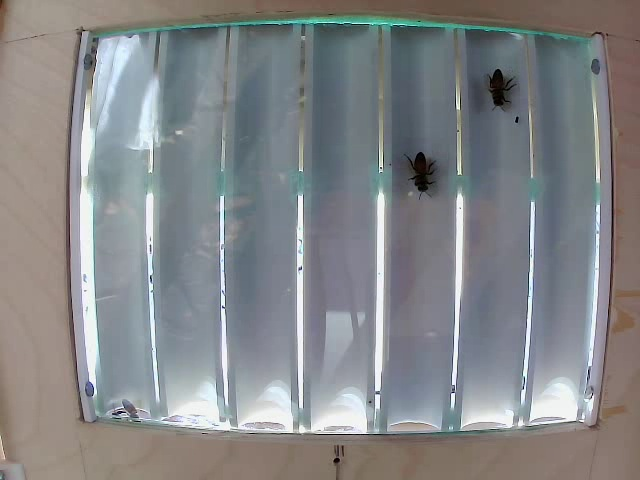bee: (409, 147, 434, 207), (483, 70, 508, 116)
